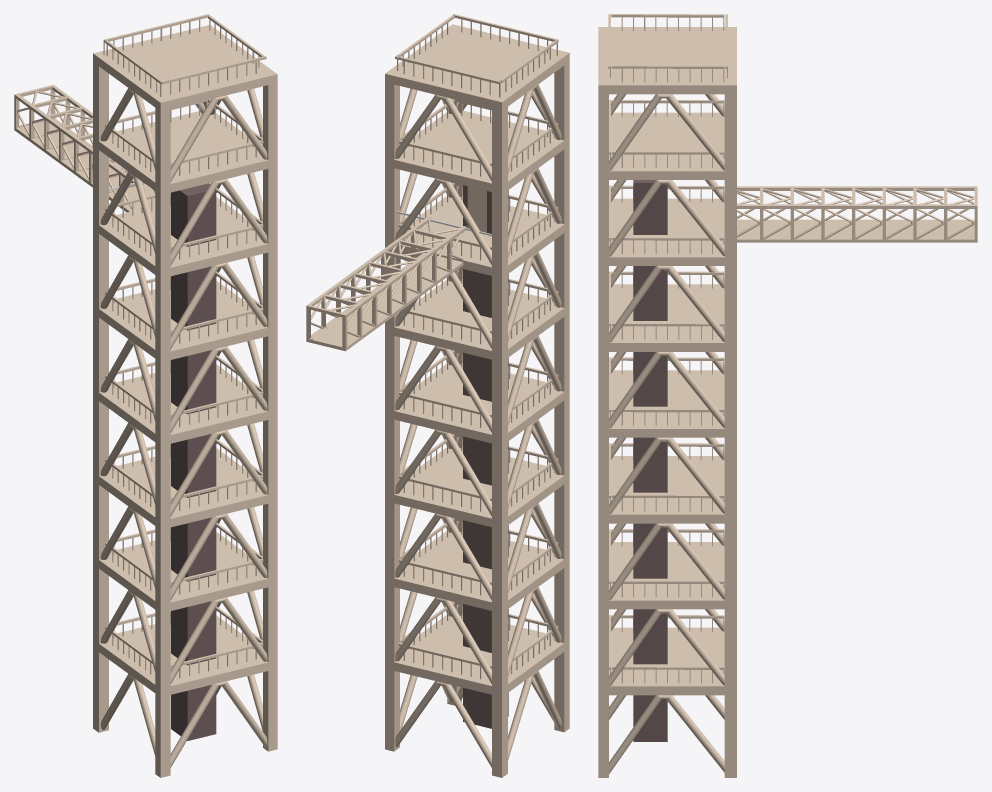
File: NewBuilding.glb
The picture shows the model from 3 angles, left to right: view 1: azimuth 30°, elevation 25°; view 2: azimuth 150°, elevation 25°; view 3: azimuth 270°, elevation 25°; orthographic projection. The views are drawn at different scales.
Parts seen in each view (by area): view 1: Plattform, Hiss, Gång; view 2: Plattform, Gång, Hiss, Dörr; view 3: Plattform, Gång, Hiss.
Boxes of the visible parts, x1,y1,x2,y2 form: Plattform: [93, 14, 277, 777]; Hiss: [171, 183, 216, 740]; Gång: [14, 84, 155, 212]; Plattform: [385, 14, 569, 777]; Gång: [306, 217, 466, 351]; Hiss: [463, 185, 508, 728]; Dörr: [467, 186, 486, 232]; Plattform: [598, 14, 736, 777]; Gång: [737, 186, 977, 242]; Hiss: [633, 180, 667, 741].
Bounding box in the file's own units: 17.88 × 101 × 48.96.
